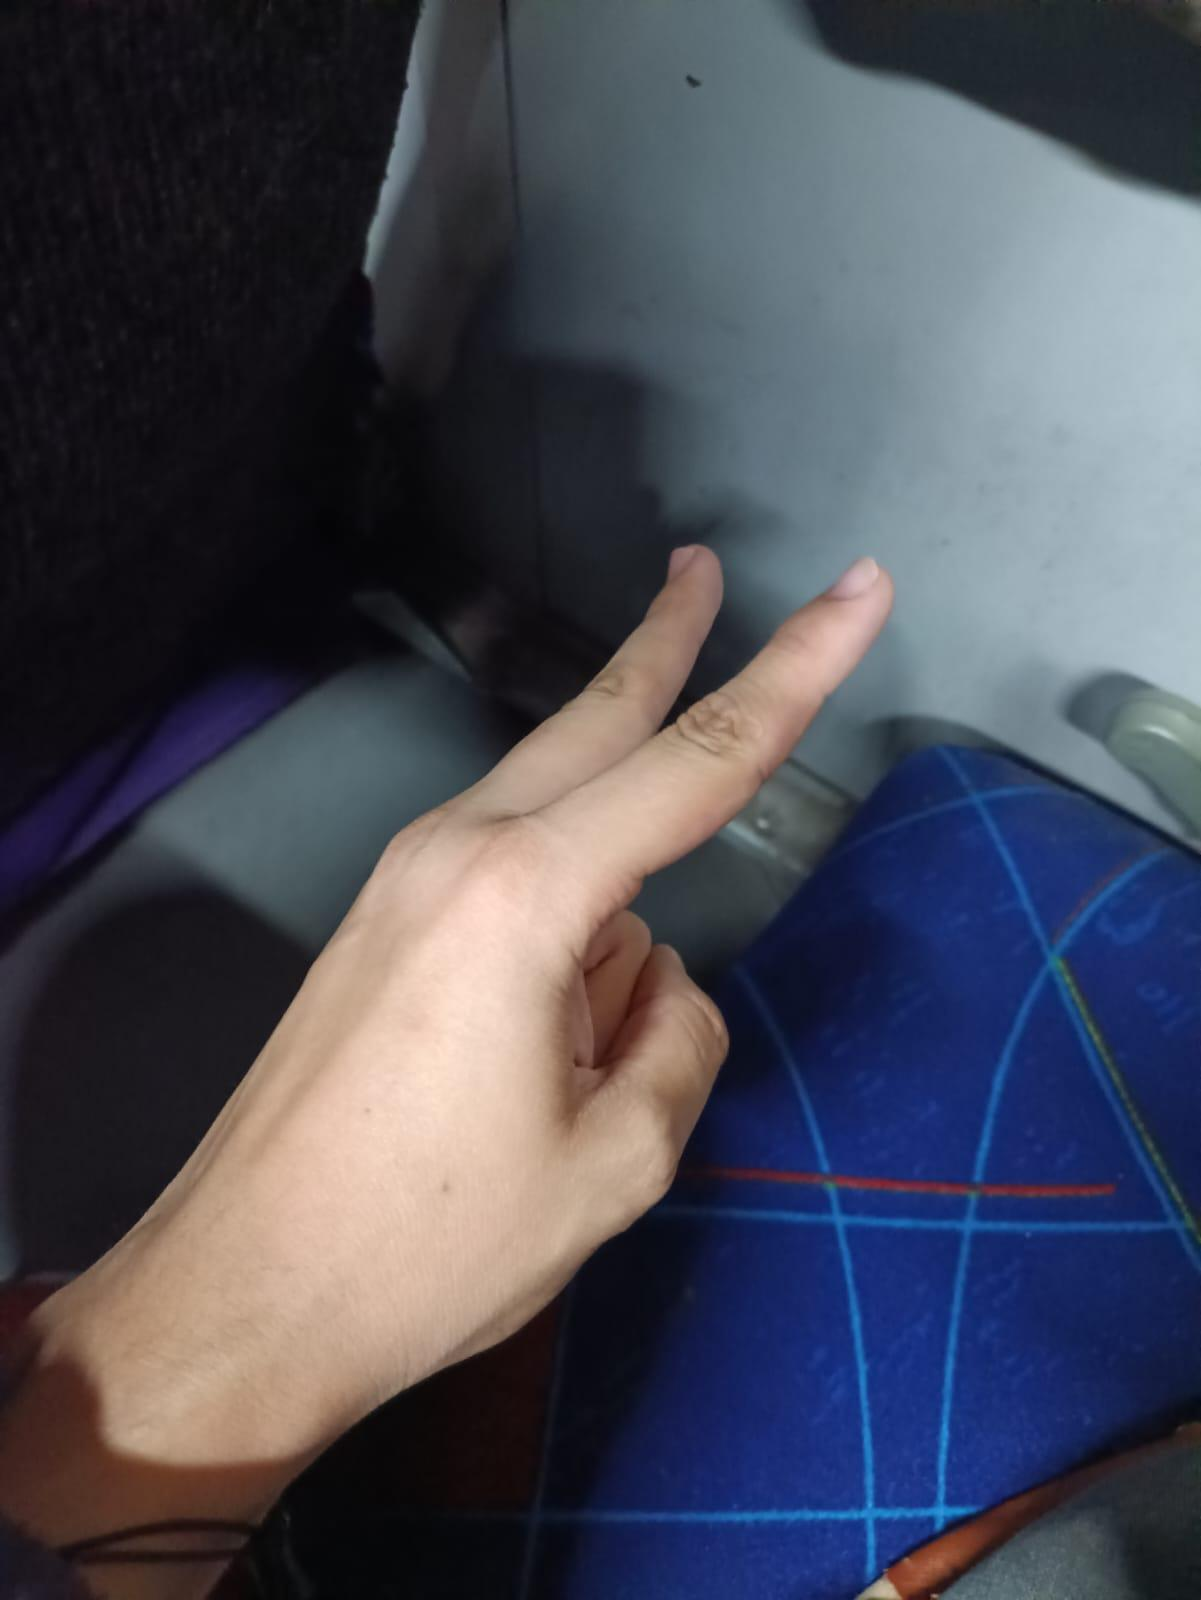Scissor: (0, 483, 953, 1550)
